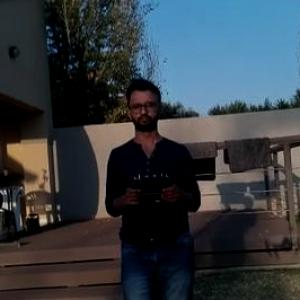follow: (100, 73, 205, 299)
